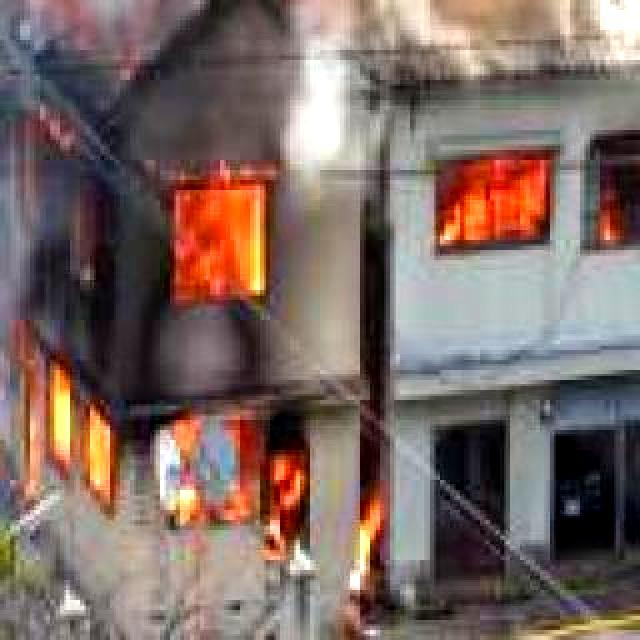fire: (32, 146, 318, 584), (444, 146, 570, 254)
